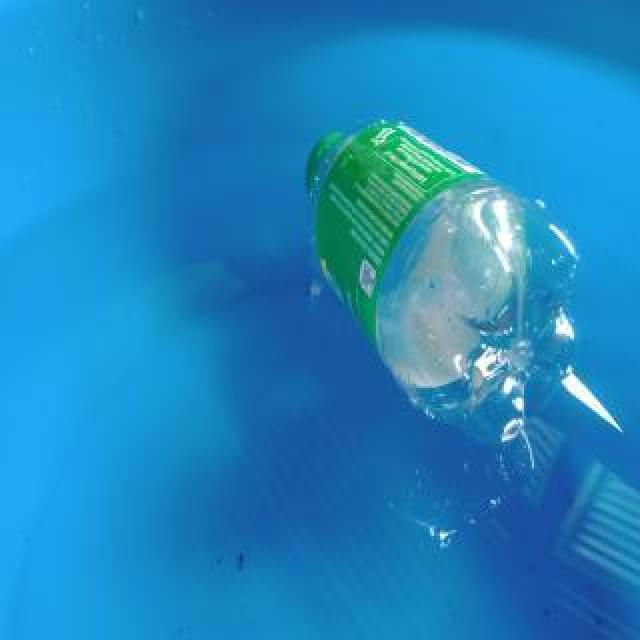bottle: (302, 117, 580, 451)
